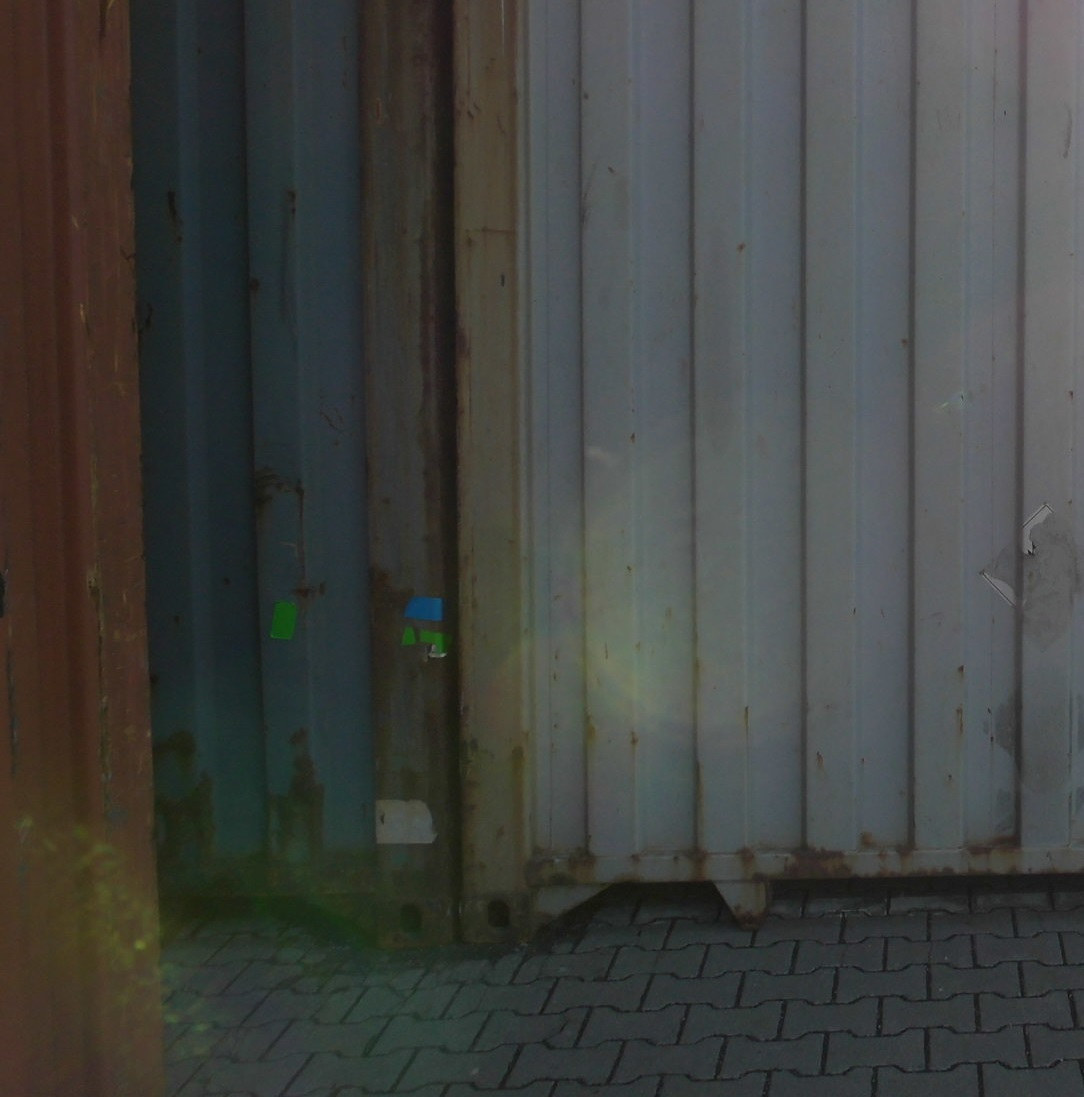container_no_door: (463, 1, 1080, 945)
